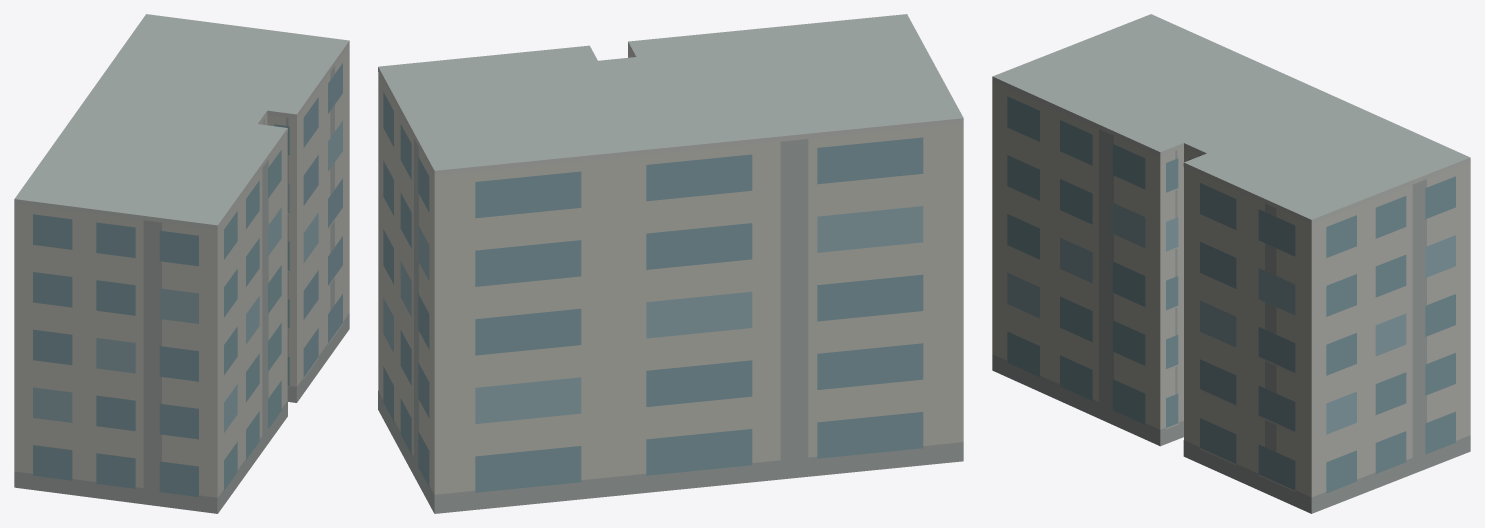
Rendered from survey-upis-32834311.glb.
3 renders of one model, left to right at view 1: azimuth 30°, elevation 25°; view 2: azimuth 150°, elevation 25°; view 3: azimuth 270°, elevation 25°, orthographic. The views are drawn at different scales.
Parts seen in each view (by area): view 1: survey-upis-32834311.tmp; view 2: survey-upis-32834311.tmp; view 3: survey-upis-32834311.tmp.
Boxes of the visible parts, x1,y1,x2,y2 form: survey-upis-32834311.tmp: [14, 14, 349, 513]; survey-upis-32834311.tmp: [378, 14, 963, 513]; survey-upis-32834311.tmp: [992, 14, 1470, 513].
Size of the model in its own units: 23.88 by 15.9 by 23.43.
